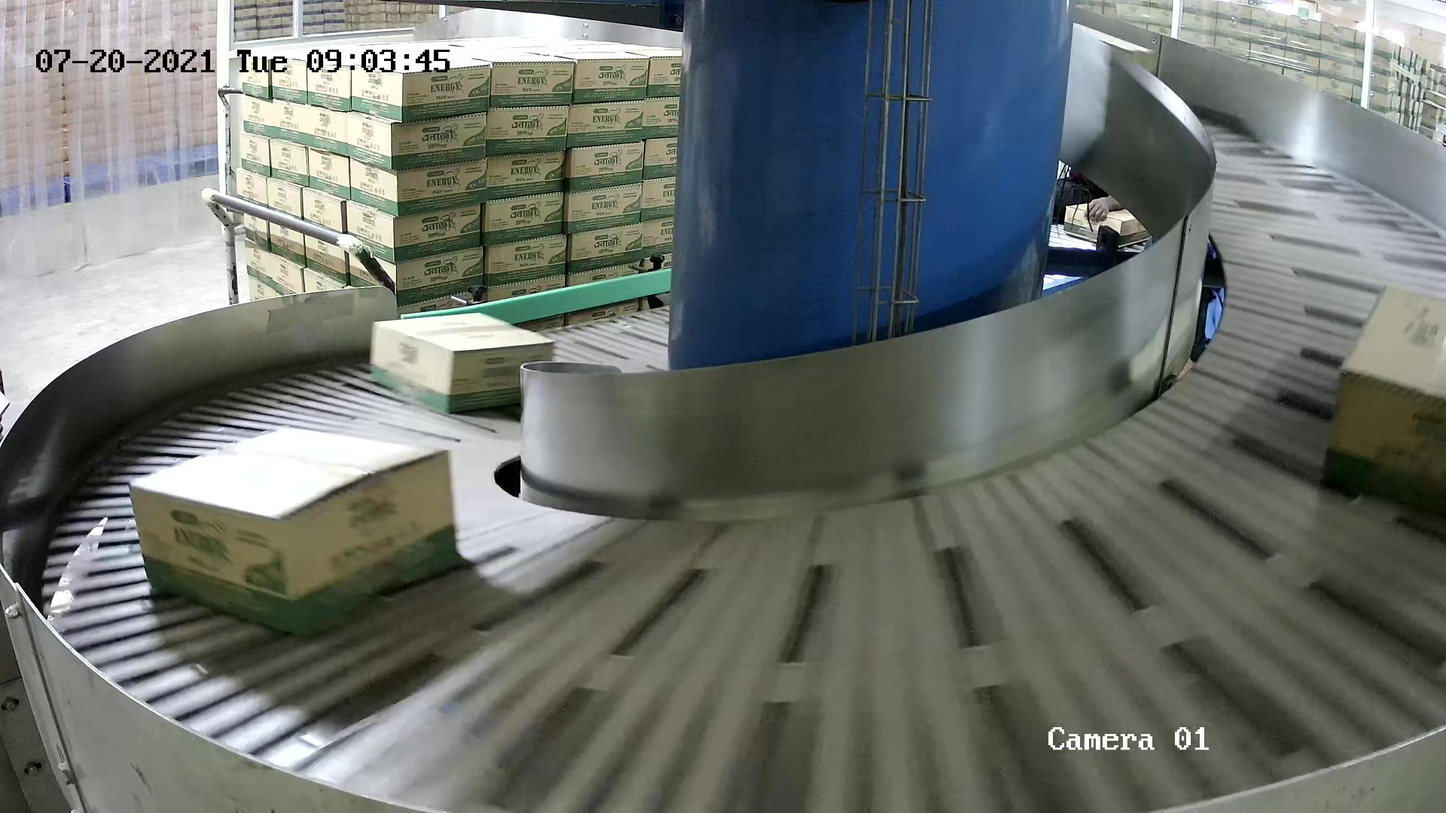Box: (130, 428, 462, 639), (1319, 283, 1446, 531), (371, 311, 557, 416)
